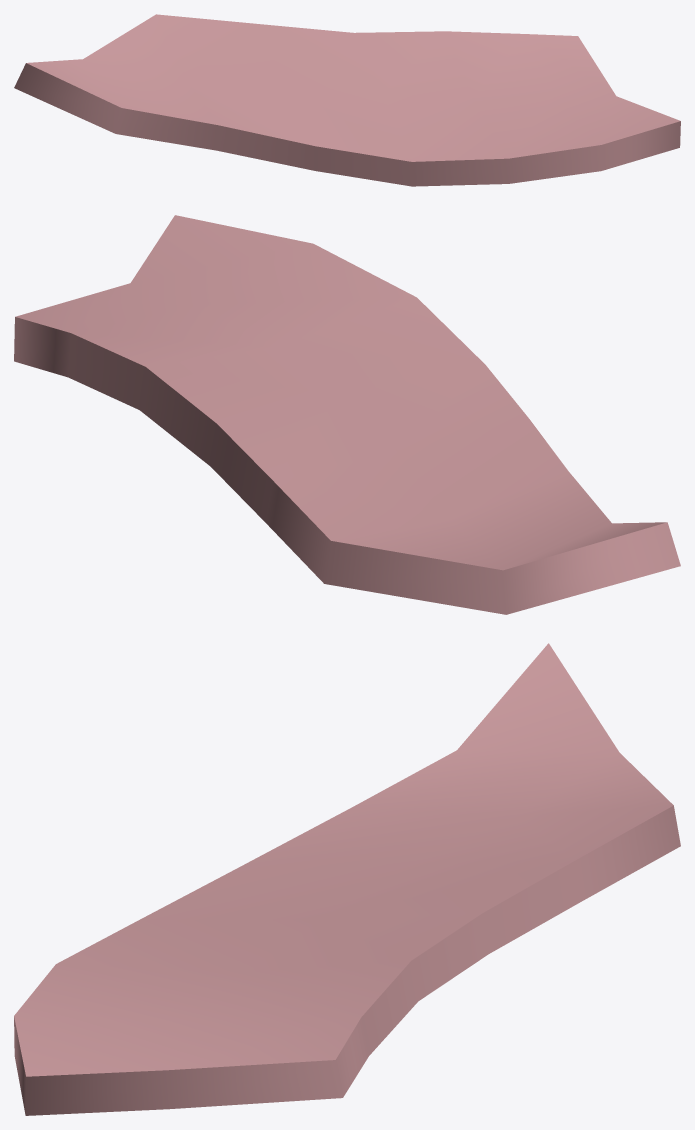
The picture shows the model from 3 angles, top to bottom: view 1: azimuth 30°, elevation 25°; view 2: azimuth 150°, elevation 25°; view 3: azimuth 270°, elevation 25°; orthographic projection. The views are drawn at different scales.
Visible parts, largest first — view 1: ZA_57e774b8cd1b919c; view 2: ZA_57e774b8cd1b919c; view 3: ZA_57e774b8cd1b919c.
Part boxes in pixels (x1=…): ZA_57e774b8cd1b919c: x1=14, y1=14, x2=680, y2=186; ZA_57e774b8cd1b919c: x1=14, y1=215, x2=680, y2=614; ZA_57e774b8cd1b919c: x1=14, y1=643, x2=680, y2=1115.
Size of the model in its own units: 0.0587 by 0.0099 by 0.0453.
